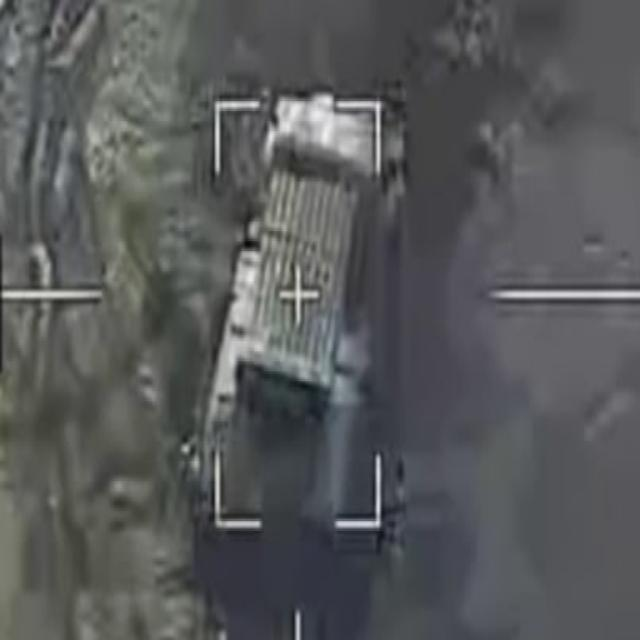MLRS: (189, 64, 406, 554)
